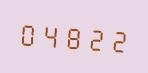eight: (62, 19, 83, 53)
four: (40, 17, 61, 52)
two: (84, 20, 105, 55), (106, 22, 127, 56)
zero: (18, 16, 39, 50)
